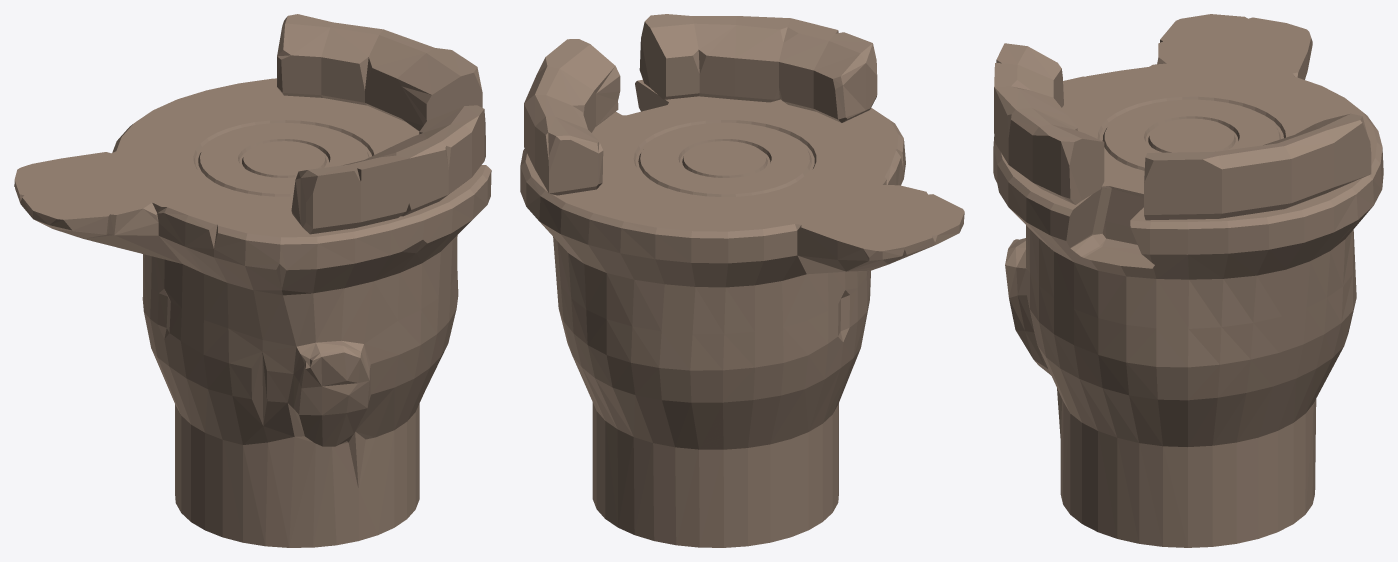
File: Module_1.fbx
3 renders of one model, left to right at view 1: azimuth 30°, elevation 25°; view 2: azimuth 150°, elevation 25°; view 3: azimuth 270°, elevation 25°, orthographic. The views are drawn at different scales.
Parts seen in each view (by area): view 1: 柱体.007, 立方体.083; view 2: 柱体.007, 立方体.083; view 3: 柱体.007, 立方体.083.
Part boxes in pixels (x1,y1,x2,y2): 柱体.007: [14, 78, 491, 547]; 立方体.083: [277, 14, 485, 234]; 柱体.007: [520, 79, 964, 547]; 立方体.083: [524, 14, 877, 195]; 柱体.007: [993, 14, 1383, 547]; 立方体.083: [994, 43, 1371, 220].
Bounding box in the file's own units: 3062 × 2390 × 2815.
